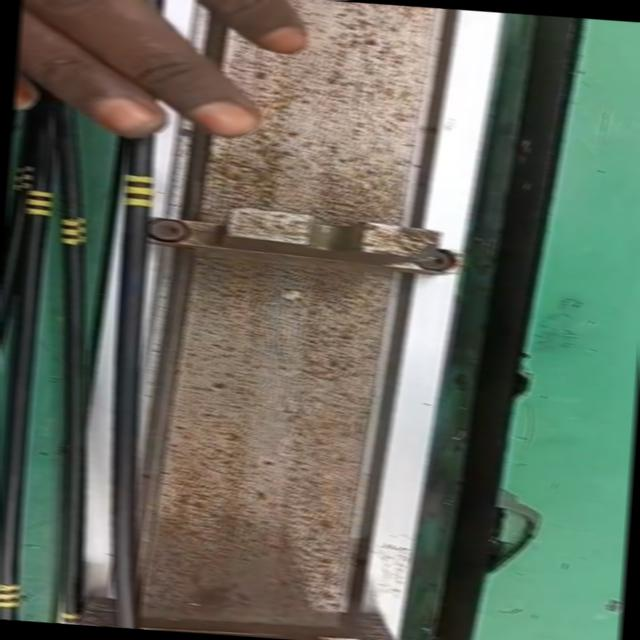yellow: (119, 172, 157, 206), (24, 189, 54, 219), (59, 216, 85, 243), (0, 581, 18, 610)
